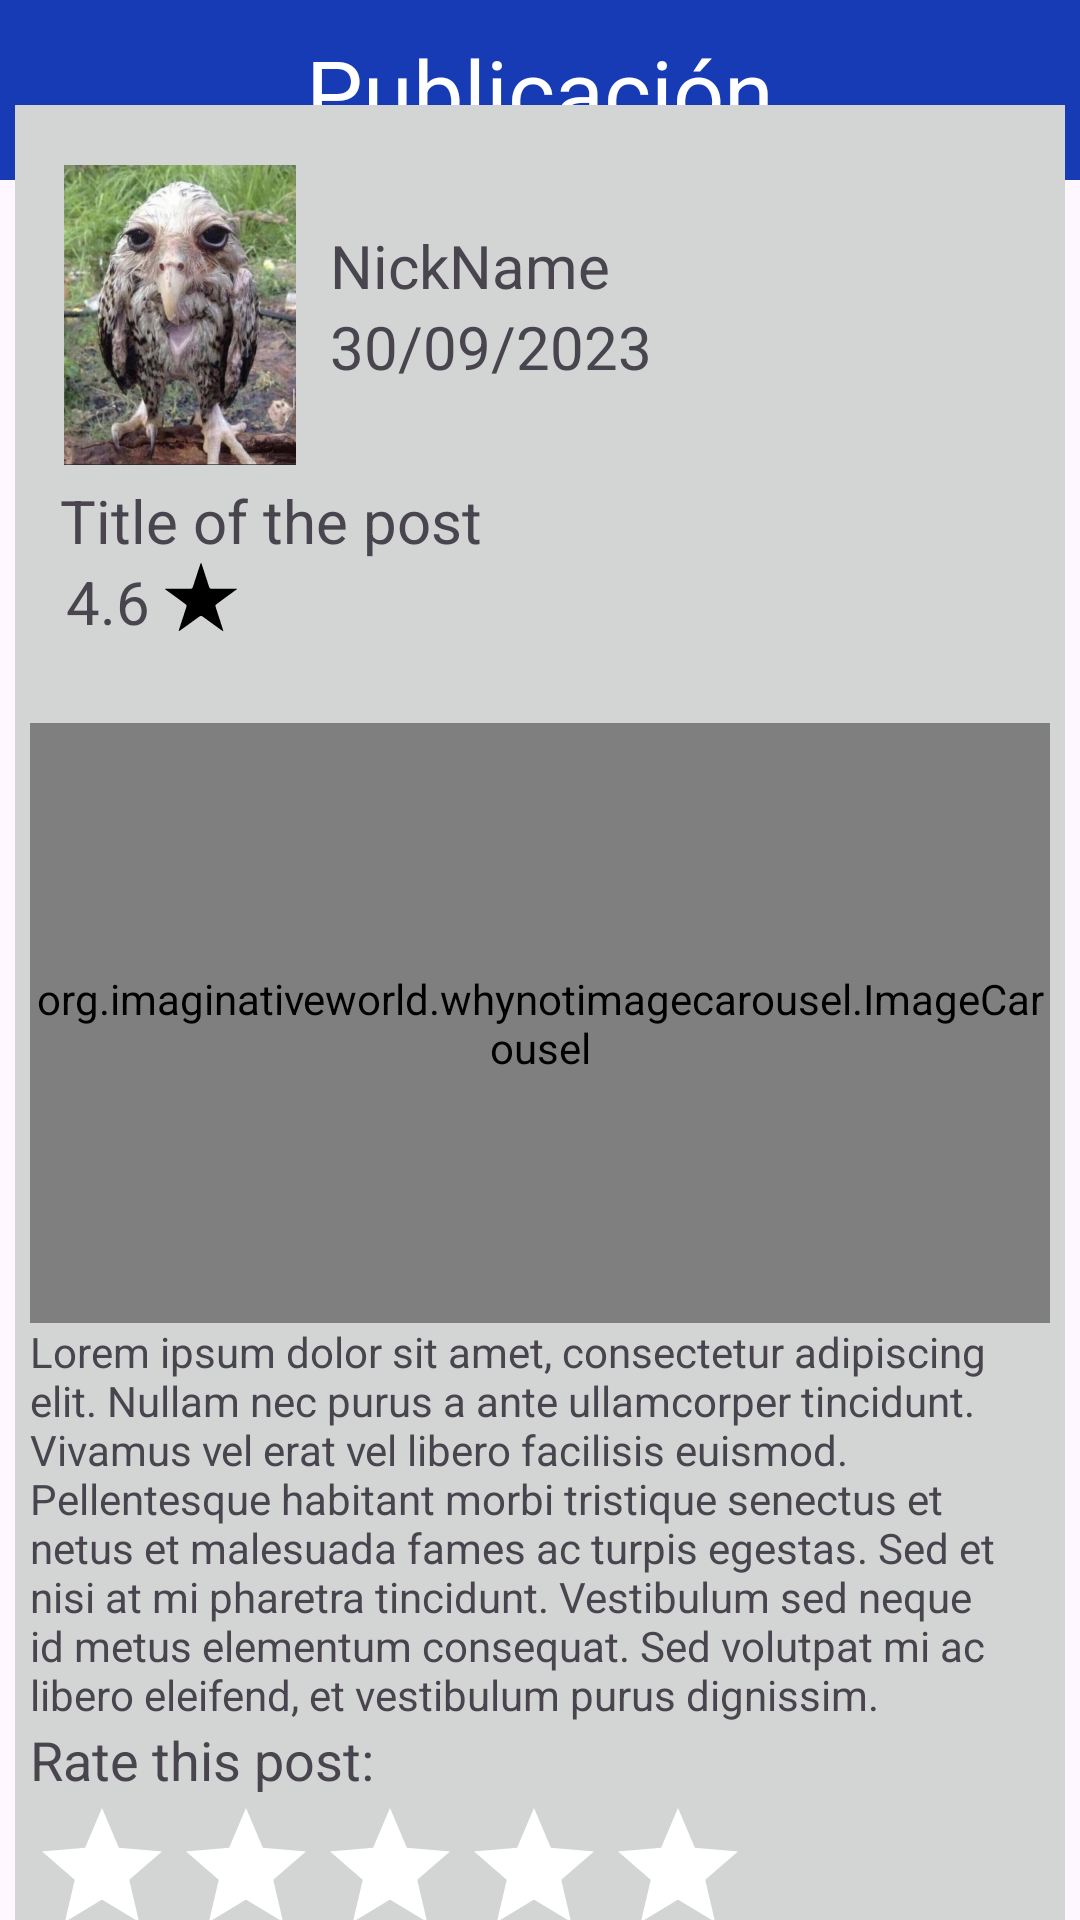

Icons on this 1080×1920 Android screen, each with its box as [left=x1, top=y1, right=x2, bottom=y2]:
star: [left=165, top=563, right=237, bottom=631]
userpic: [left=64, top=165, right=296, bottom=465]
